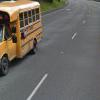Bus: (1, 1, 51, 75)
